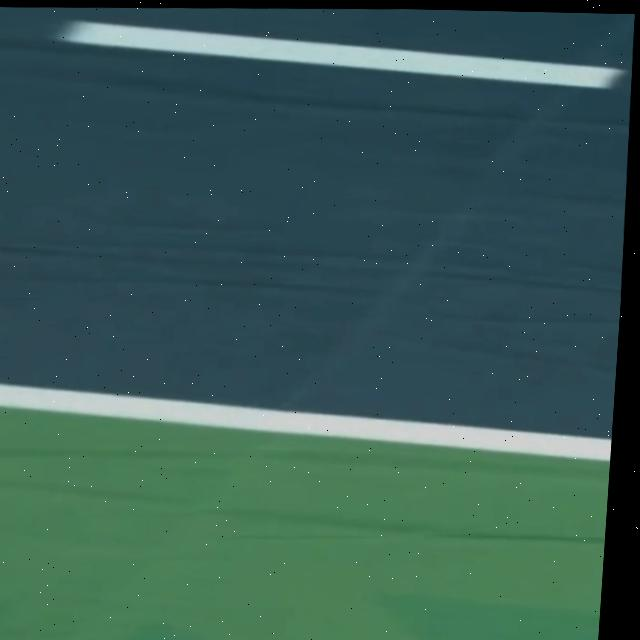center: (58, 21, 622, 86)
right: (0, 382, 612, 459)
